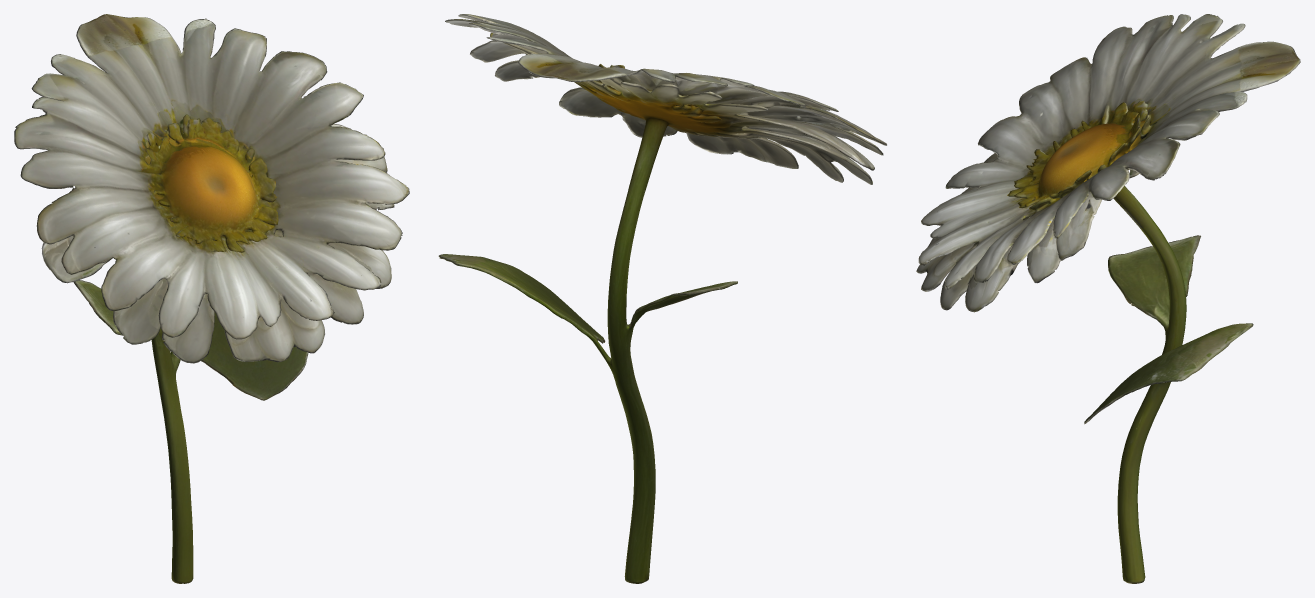
The model's file is Chamomile.glb.
3 renders of one model, left to right at view 1: azimuth 30°, elevation 25°; view 2: azimuth 150°, elevation 25°; view 3: azimuth 270°, elevation 25°, orthographic. The views are drawn at different scales.
Bounding box in the file's own units: 1.45 × 2 × 1.33.
1 material, 1 textured.
